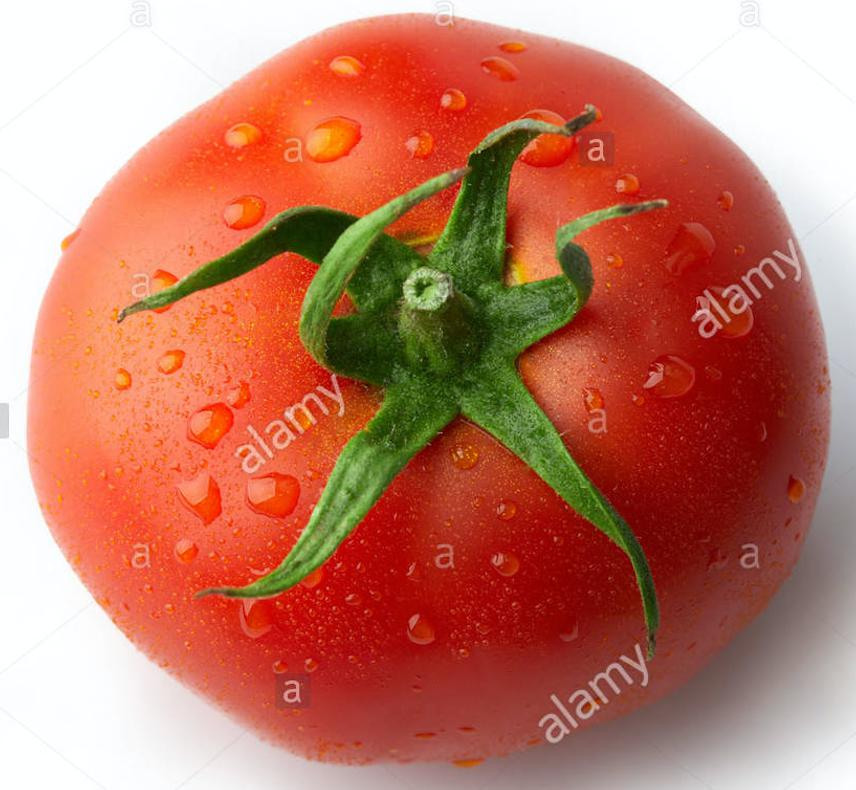tomato: (29, 20, 825, 751)
